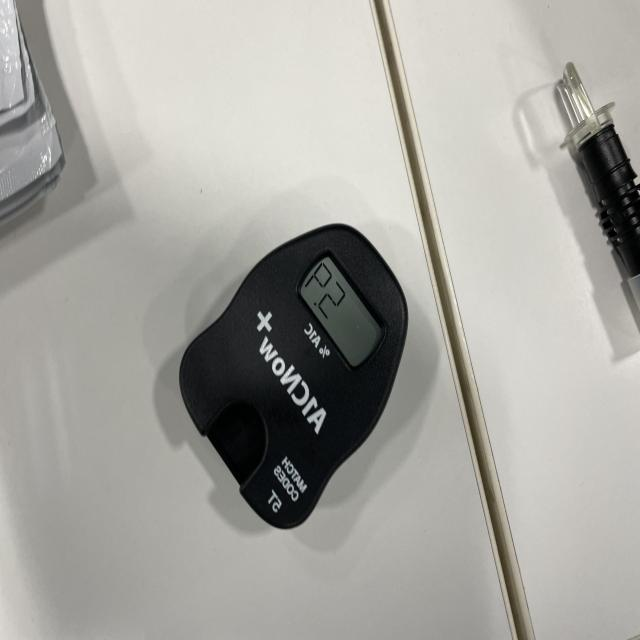hba1c: (176, 225, 410, 532)
